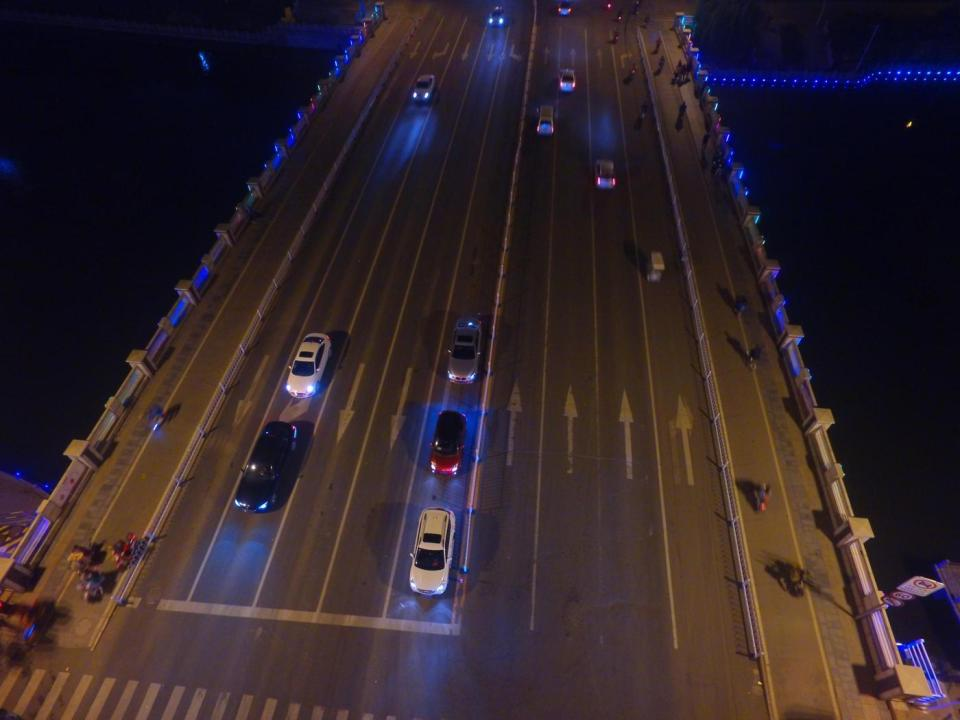car: (232, 419, 302, 514), (408, 507, 457, 595), (283, 332, 330, 398), (445, 311, 481, 385), (428, 409, 467, 476), (592, 154, 615, 190), (533, 102, 555, 138), (413, 74, 433, 103), (556, 66, 576, 93), (488, 3, 506, 29), (558, 0, 571, 16)
